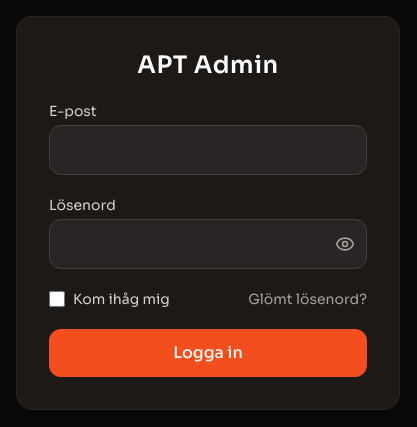
Test: AdminLogin › Forgot password flow › navigates to request code view when clicking "Glömt lösenord?"
Click the button "Glömt lösenord?" at {"x": 308, "y": 299}, box [248,289,367,309]
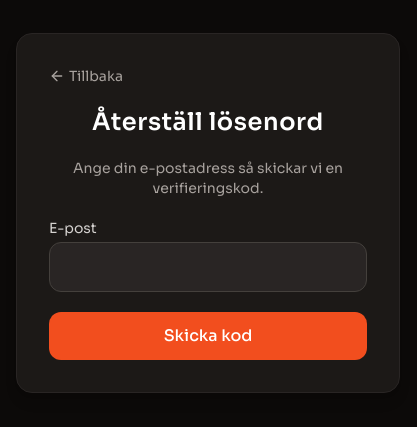
Result: the heading "Återställ lösenord" is shown at [92,107,324,137]
Result: the button "Skicka kod" is shown at [49,312,367,360]
Result: the button "Logga in" is gone
